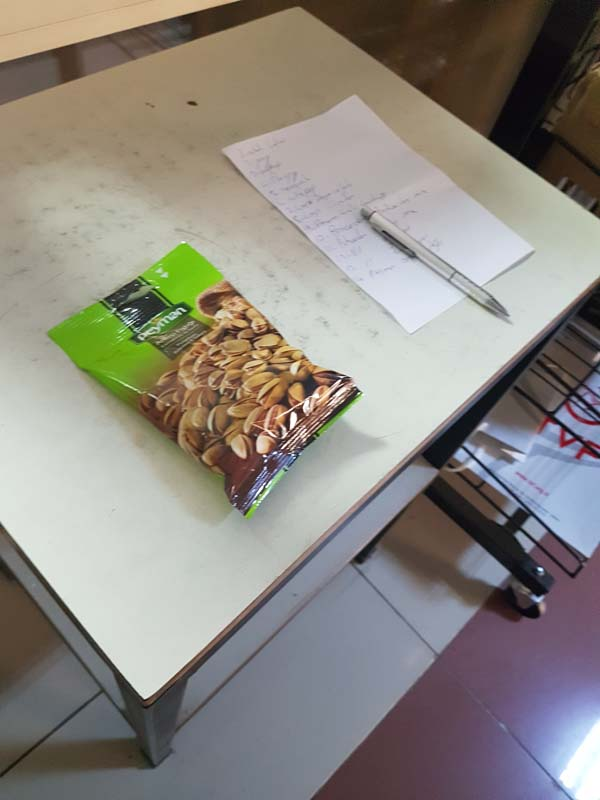antepfistigi: (47, 240, 370, 517)
